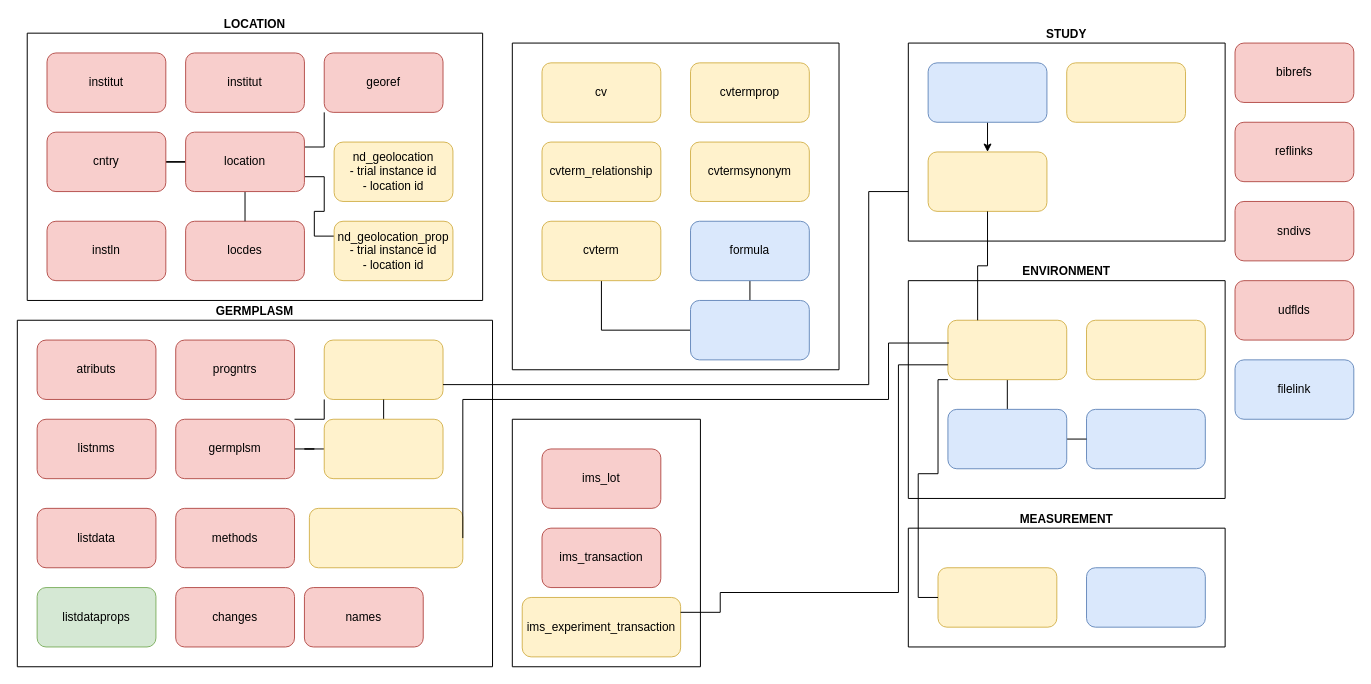
This 1371x684 diagram has some shape labels left out. Each missing label, with the box of its shape:
formula_input: (690, 299, 809, 360)
germplasm_study_srouce: (308, 507, 463, 568)
INVENTORY: (511, 418, 700, 667)
nd_experiment: (947, 319, 1067, 380)
nd_experiment_prop: (1086, 319, 1205, 380)
ONTOLOGY: (511, 42, 839, 370)
phenotype name = cvterm value = measurement: (937, 567, 1057, 627)
phenotype_outlier: (1086, 567, 1205, 627)
plant: (947, 408, 1067, 469)
project: (927, 151, 1047, 211)
projectprop: (1066, 62, 1186, 122)
sample: (1086, 408, 1205, 469)
stock: (323, 339, 443, 399)
stock_prop: (323, 418, 443, 479)
study_type: (927, 62, 1047, 122)
